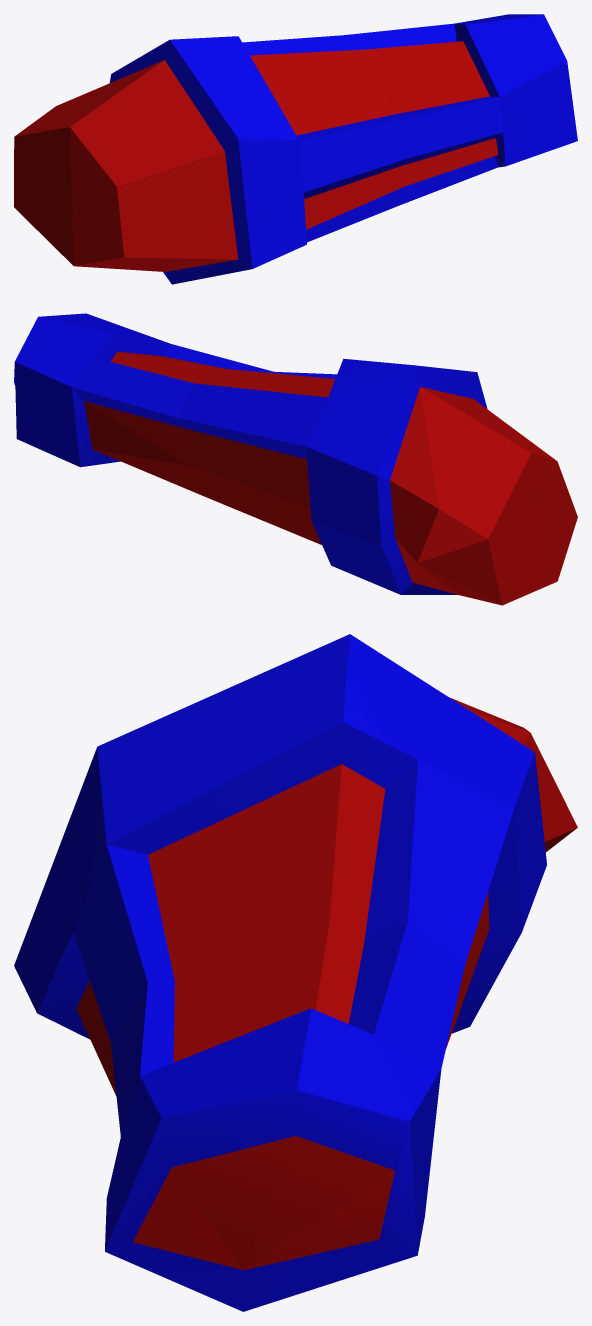
The model's file is Chr_ArmLowerLeft_Male_Static_09.fbx.
3 renders of one model, top to bottom at view 1: azimuth 30°, elevation 25°; view 2: azimuth 150°, elevation 25°; view 3: azimuth 270°, elevation 25°, orthographic. The views are drawn at different scales.
Visible parts, largest first — view 1: Chr_ArmLowerLeft_Male_09; view 2: Chr_ArmLowerLeft_Male_09; view 3: Chr_ArmLowerLeft_Male_09.
Part boxes in pixels (bbox=[...]): Chr_ArmLowerLeft_Male_09: bbox=[14, 14, 577, 284]; Chr_ArmLowerLeft_Male_09: bbox=[14, 313, 577, 605]; Chr_ArmLowerLeft_Male_09: bbox=[14, 634, 577, 1311].
Bounding box in the file's own units: 28.96 × 12.79 × 14.67.
